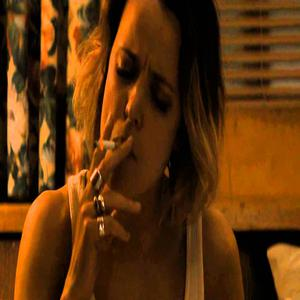cigarette: (100, 141, 125, 150)
